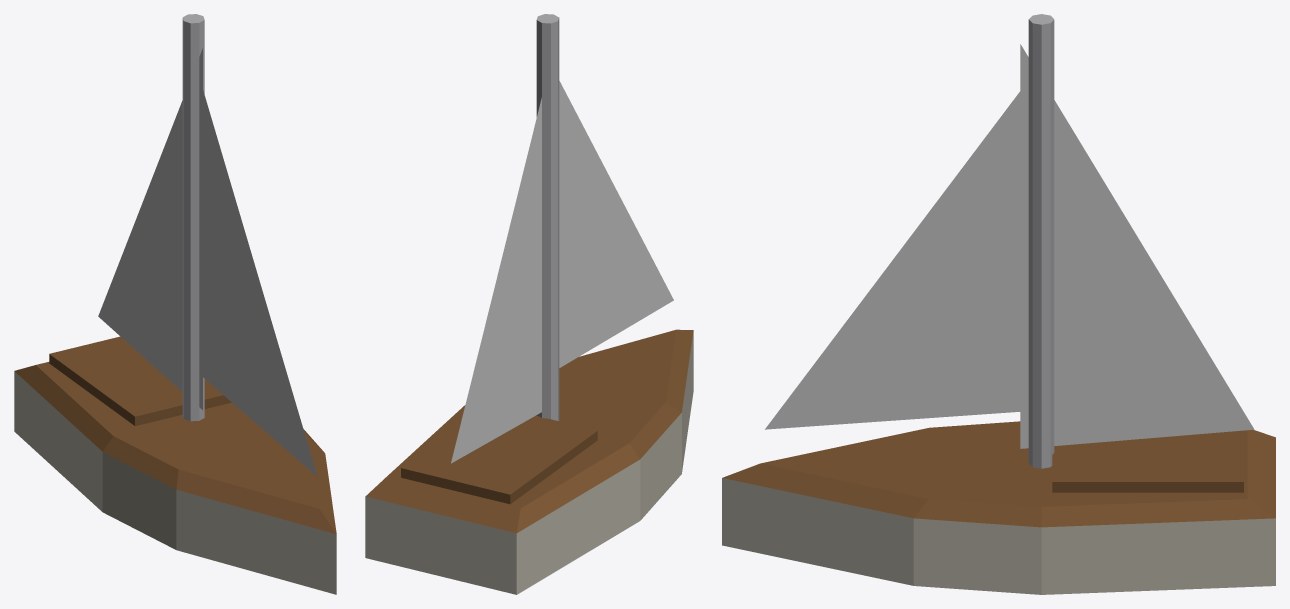
Rendered from sailboat.glb.
3 renders of one model, left to right at view 1: azimuth 30°, elevation 25°; view 2: azimuth 150°, elevation 25°; view 3: azimuth 270°, elevation 25°, orthographic. The views are drawn at different scales.
Parts seen in each view (by area): view 1: sailboat; view 2: sailboat; view 3: sailboat.
Boxes of the visible parts, bbox=[...] form: sailboat: bbox=[14, 14, 336, 594]; sailboat: bbox=[365, 14, 693, 594]; sailboat: bbox=[722, 14, 1275, 594].
Size of the model in its own units: 0.22 by 0.545 by 0.52.
